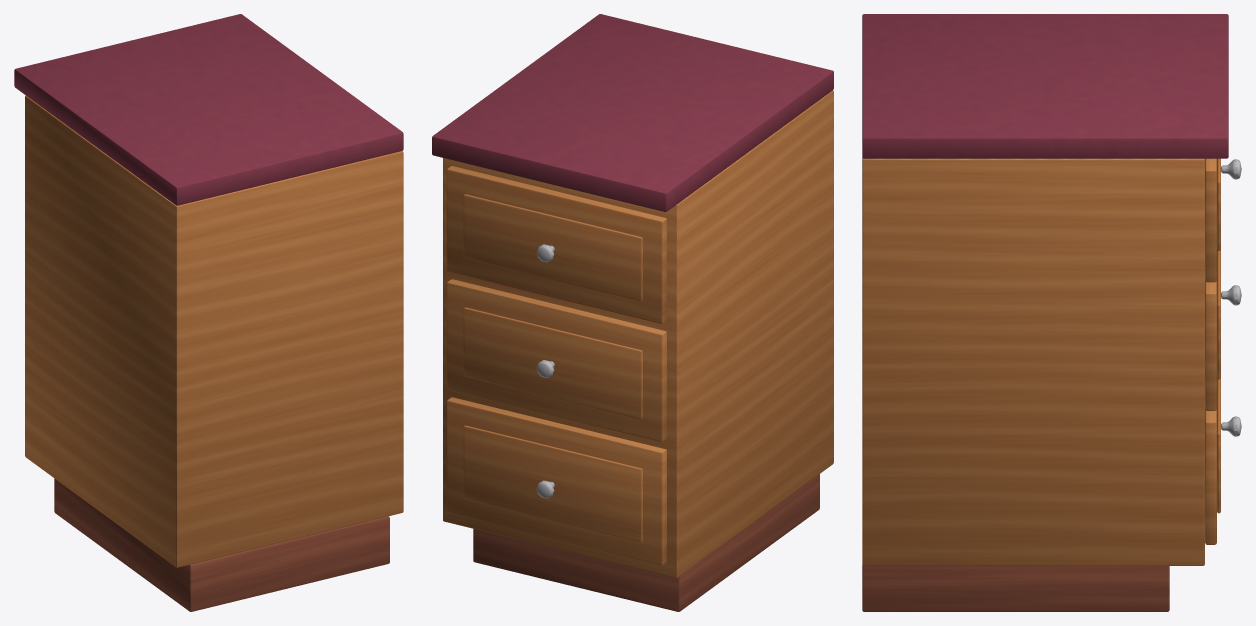
File: SM_Cabinet_Base_Drawers_05.fbx
The picture shows the model from 3 angles, left to right: view 1: azimuth 30°, elevation 25°; view 2: azimuth 150°, elevation 25°; view 3: azimuth 270°, elevation 25°; orthographic projection. The views are drawn at different scales.
Visible parts, largest first — view 1: SM_Cabinet_Base_Drawers_05; view 2: SM_Cabinet_Base_Drawers_05; view 3: SM_Cabinet_Base_Drawers_05.
Boxes of the visible parts, box(x1,y1,x2,y2) form: SM_Cabinet_Base_Drawers_05: box(14, 14, 403, 611); SM_Cabinet_Base_Drawers_05: box(432, 14, 833, 611); SM_Cabinet_Base_Drawers_05: box(862, 14, 1241, 611).
Size of what is drawn, in the model's own units: 0.5 by 0.9 by 0.642.
4 materials, 4 textured.
